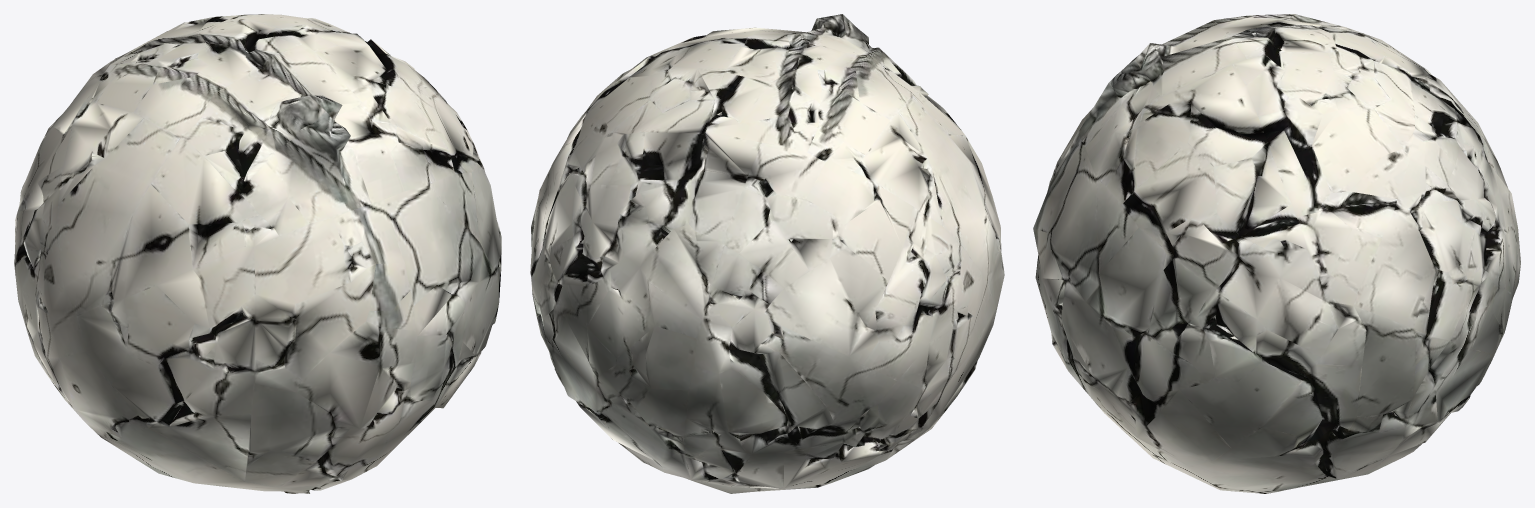
Rendered from ball.glb.
3 renders of one model, left to right at view 1: azimuth 30°, elevation 25°; view 2: azimuth 150°, elevation 25°; view 3: azimuth 270°, elevation 25°, orthographic. The views are drawn at different scales.
Bounding box in the file's own units: 1.87 × 1.87 × 1.9.
Materials: 1 (1 with a texture image).
